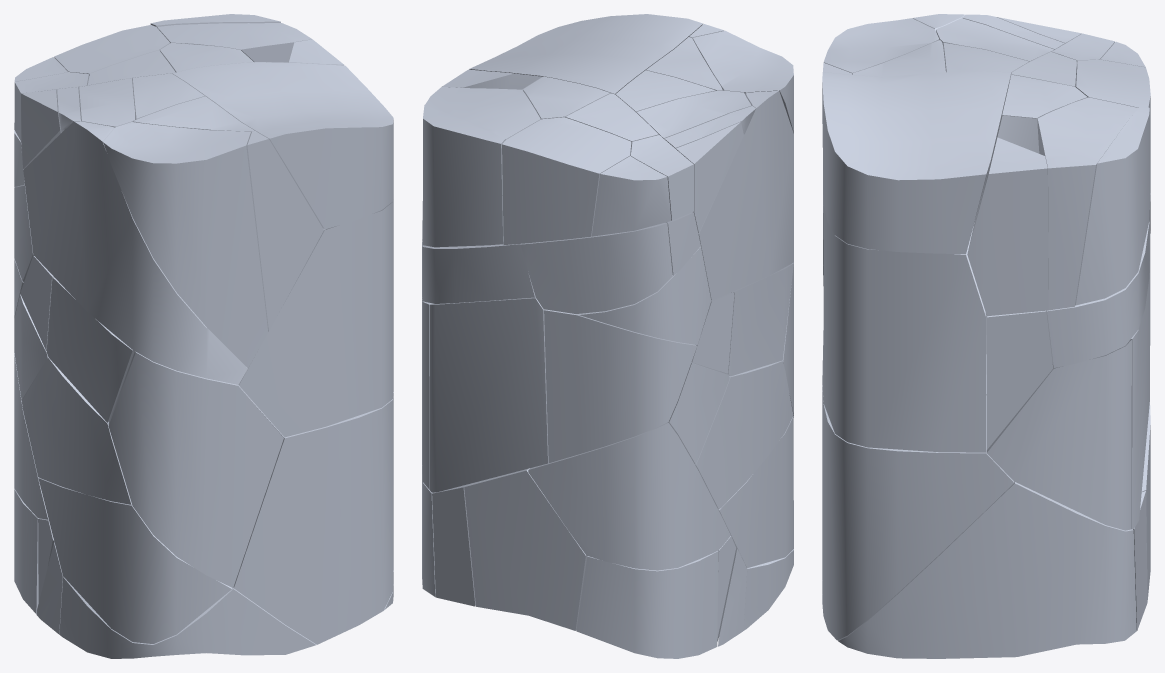
File: pillar-middle.glb
3 views of the same model, side by side, from view 1: azimuth 30°, elevation 25°; view 2: azimuth 150°, elevation 25°; view 3: azimuth 270°, elevation 25° (orthographic). The views are drawn at different scales.
Visible parts, largest first — view 1: column-middle_cell.005-col, column-middle_cell.004_cell.003-col, column-middle_cell.006_cell.001-col, column-middle_cell.006_cell.004-col, column-middle_cell.008-col, column-middle_cell.002-col, column-middle_cell.004_cell.007-col, column-middle_cell.009-col, column-middle_cell.004_cell.005-col, column-middle_cell.006_cell.006-col, column-middle_cell.004_cell.002-col, column-middle_cell.001_cell.003-col (+19 smaller); view 2: column-middle_cell_cell.007-col, column-middle_cell.007_cell-col, column-middle_cell_cell.003-col, column-middle_cell.007_cell.002-col, column-middle_cell.006_cell.004-col, column-middle_cell.001_cell.001-col, column-middle_cell.007_cell.001-col, column-middle_cell.001_cell.005-col, column-middle_cell_cell.004-col, column-middle_cell.002-col, column-middle_cell.004_cell.005-col, column-middle_cell.004_cell.007-col (+25 smaller); view 3: column-middle_cell.003-col, column-middle_cell.008-col, column-middle_cell.002-col, column-middle_cell.005-col, column-middle_cell_cell.006-col, column-middle_cell.001_cell.002-col, column-middle_cell.001_cell.003-col, column-middle_cell.001_cell.005-col, column-middle_cell_cell.002-col, column-middle_cell_cell.005-col, column-middle_cell.006_cell.001-col, column-middle_cell_cell.007-col (+12 smaller).
Boxes of the visible parts, x1,y1,x2,y2 form: column-middle_cell.005-col: (233, 385, 393, 644); column-middle_cell.004_cell.003-col: (108, 351, 283, 587); column-middle_cell.006_cell.001-col: (103, 122, 268, 367); column-middle_cell.006_cell.004-col: (23, 121, 247, 384); column-middle_cell.008-col: (238, 194, 393, 437); column-middle_cell.002-col: (172, 62, 393, 229); column-middle_cell.004_cell.007-col: (38, 478, 231, 643); column-middle_cell.009-col: (59, 577, 316, 658); column-middle_cell.004_cell.005-col: (22, 358, 131, 504); column-middle_cell.006_cell.006-col: (247, 131, 323, 330); column-middle_cell.004_cell.002-col: (46, 277, 134, 422); column-middle_cell.001_cell.003-col: (157, 23, 311, 62); column-middle_cell_cell.007-col: (429, 297, 548, 492); column-middle_cell.007_cell-col: (528, 422, 730, 570); column-middle_cell_cell.003-col: (544, 309, 696, 462); column-middle_cell.007_cell.002-col: (464, 468, 587, 630); column-middle_cell.006_cell.004-col: (698, 90, 793, 300); column-middle_cell.001_cell.001-col: (502, 117, 631, 244); column-middle_cell.007_cell.001-col: (576, 551, 718, 658); column-middle_cell.001_cell.005-col: (422, 105, 505, 247); column-middle_cell_cell.004-col: (520, 222, 672, 313); column-middle_cell.002-col: (469, 14, 702, 94); column-middle_cell.004_cell.005-col: (694, 361, 793, 509); column-middle_cell.004_cell.007-col: (718, 416, 793, 568); column-middle_cell.003-col: (838, 481, 1136, 658); column-middle_cell.008-col: (822, 205, 986, 452); column-middle_cell.002-col: (822, 71, 1010, 253); column-middle_cell.005-col: (822, 385, 1014, 640); column-middle_cell_cell.006-col: (986, 340, 1131, 530); column-middle_cell.001_cell.002-col: (967, 115, 1048, 316); column-middle_cell.001_cell.003-col: (1037, 97, 1138, 310); column-middle_cell.001_cell.005-col: (1076, 107, 1149, 305); column-middle_cell_cell.002-col: (986, 310, 1053, 449); column-middle_cell_cell.005-col: (1046, 217, 1150, 367); column-middle_cell.006_cell.001-col: (823, 18, 939, 285); column-middle_cell_cell.007-col: (1052, 250, 1150, 529).
Bounding box in the file's own units: 0.7955 × 1.4 × 0.7829.
